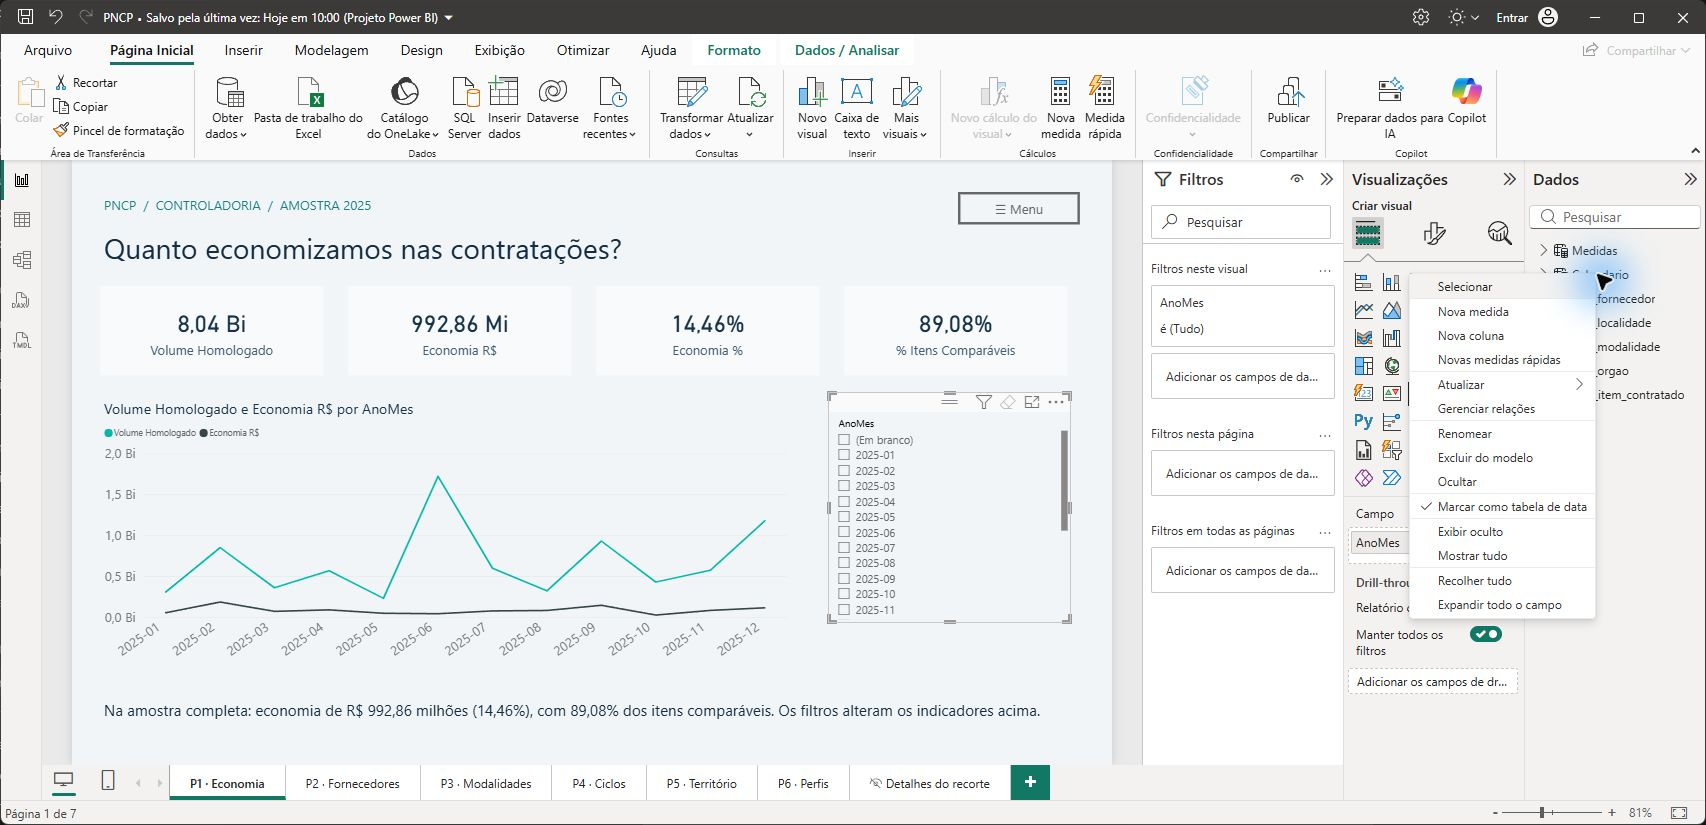

The page's visual inventory and layout, read from the dashboard file:
{"tool":"powerbi","page":{"name":"P1 · Economia","canvas":[1280,720],"ordinal":0},"visuals":[{"type":"textbox","box":[35,15,950,32],"z":0},{"type":"textbox","box":[35,55,1150,60],"z":0},{"type":"card","fields":{"Values":["Medidas.Volume Homologado"]},"box":[35,130,275,110],"z":0},{"type":"card","fields":{"Values":["Medidas.Economia R$"]},"box":[340,130,275,110],"z":0},{"type":"card","fields":{"Values":["Medidas.Economia %"]},"box":[645,130,275,110],"z":0},{"type":"card","fields":{"Values":["Medidas.% Itens Comparáveis"]},"box":[950,130,275,110],"z":0},{"type":"lineChart","fields":{"Category":["Calendario.AnoMes"],"Y":["Medidas.Volume Homologado","Medidas.Economia R$"]},"box":[35,270,850,340],"z":0},{"type":"slicer","fields":{"Values":["Calendario.AnoMes"]},"box":[930,285,300,260],"z":0},{"type":"textbox","box":[35,635,1200,65],"z":0},{"type":"actionButton","box":[1090,15,150,40],"z":101}]}

Visuals, with their boxes on the page's 1280x720 design canvas (x1, y1, x2, y2). These are canvas units, not pixel positions in the 1706x825 screenshot, which may show the page scaled, cropped or inside an application window:
textbox: <bbox>35, 15, 985, 47</bbox>
textbox: <bbox>35, 55, 1185, 115</bbox>
card - Medidas.Volume Homologado: <bbox>35, 130, 310, 240</bbox>
card - Medidas.Economia R$: <bbox>340, 130, 615, 240</bbox>
card - Medidas.Economia %: <bbox>645, 130, 920, 240</bbox>
card - Medidas.% Itens Comparáveis: <bbox>950, 130, 1225, 240</bbox>
lineChart - Calendario.AnoMes x Medidas.Volume Homologado: <bbox>35, 270, 885, 610</bbox>
slicer - Calendario.AnoMes: <bbox>930, 285, 1230, 545</bbox>
textbox: <bbox>35, 635, 1235, 700</bbox>
actionButton: <bbox>1090, 15, 1240, 55</bbox>
